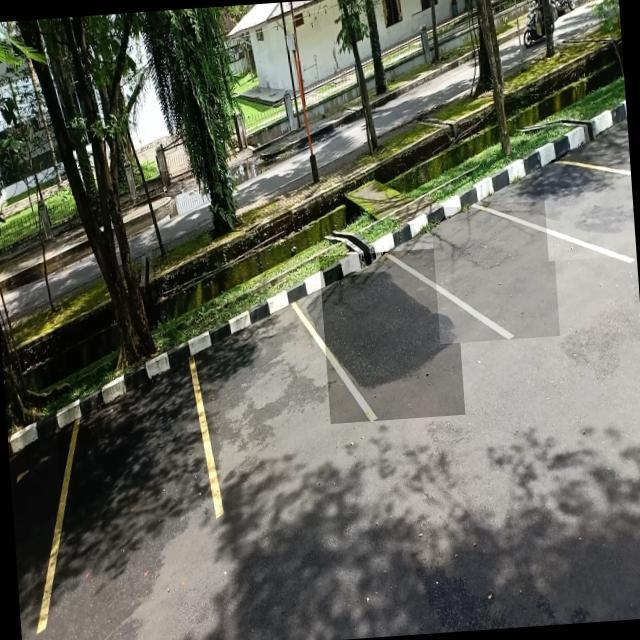empty: (52, 362, 216, 572), (195, 302, 341, 512), (318, 246, 464, 424), (430, 199, 560, 344), (542, 156, 636, 261)
